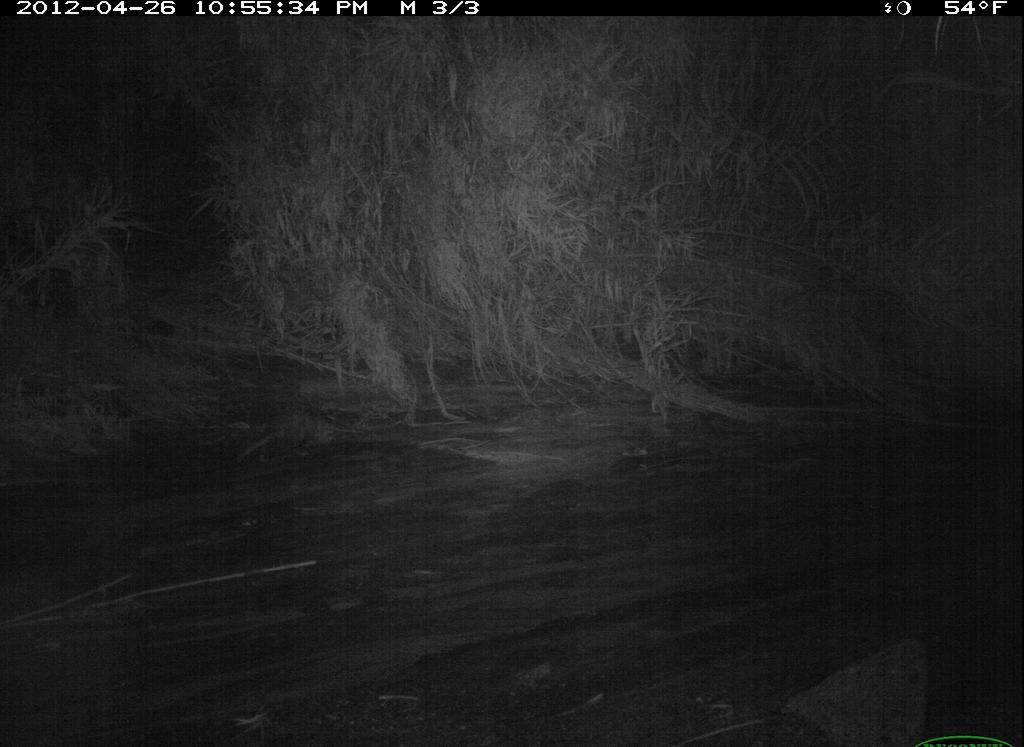opossum: (237, 396, 369, 496)
